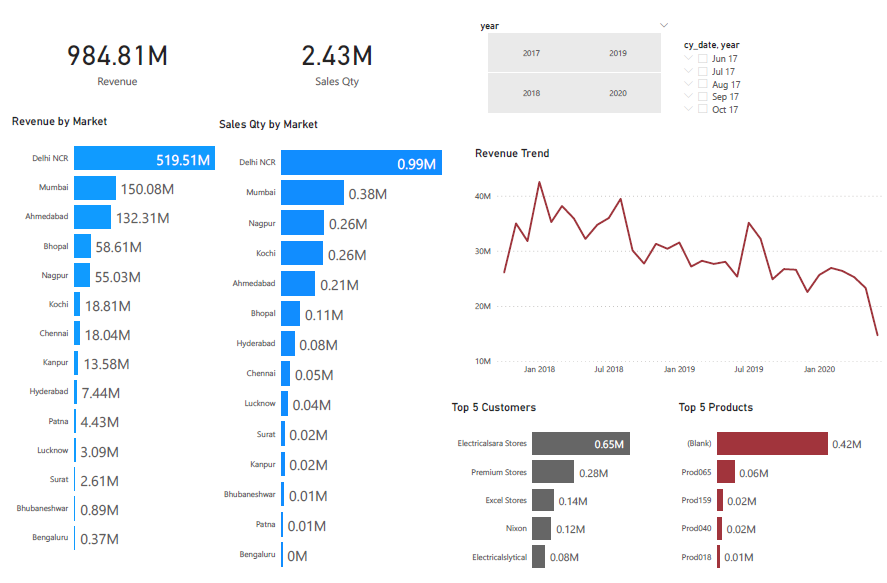

What the dashboard file says about the page in this screenshot:
{"tool":"powerbi","page":{"name":"Page 1","canvas":[1350,850],"ordinal":0},"visuals":[{"type":"card","fields":{"Values":["Basemeasures.Revenue"]},"box":[0,0,331.3,129.3],"z":0},{"type":"card","fields":{"Values":["Basemeasures.Sales Qty"]},"box":[331.3,0,329.5,129.3],"z":1000},{"type":"barChart","title":"Revenue by Market","fields":{"Y":["Basemeasures.Revenue"],"Category":["sales markets.markets_name"]},"box":[1.8,145.3,349,676.8],"z":2000},{"type":"barChart","title":"Sales Qty by Market","fields":{"Y":["Basemeasures.Sales Qty"],"Category":["sales markets.markets_name"]},"box":[312.7,151.2,347.5,698.5],"z":3000},{"type":"slicer","fields":{"Values":["sales date.year"]},"box":[698,0,308.3,150.6],"z":4000},{"type":"slicer","fields":{"Values":["sales date.cy_date","sales date.year"]},"box":[1004.5,30.1,345.5,120.5],"z":5000},{"type":"barChart","title":"Top 5 Customers","fields":{"Y":["Basemeasures.Sales Qty"],"Category":["sales customers.custmer_name"]},"box":[662,575.1,309.3,274.5],"z":6000},{"type":"barChart","title":"Top 5 Products","fields":{"Y":["Basemeasures.Sales Qty"],"Category":["sales products.product_code"]},"box":[1004.2,575.1,304.1,274.5],"z":7000},{"type":"lineChart","title":"Revenue Trend","fields":{"Y":["Basemeasures.Revenue"],"Category":["sales date.cy_date"]},"box":[698.5,194.6,639.4,352.7],"z":8000}]}

Visuals, with their boxes on the page's 1350x850 design canvas (x1, y1, x2, y2). These are canvas units, not pixel positions in the 887x583 screenshot, which may show the page scaled, cropped or inside an application window:
card - Basemeasures.Revenue: 0/0/331/129
card - Basemeasures.Sales Qty: 331/0/661/129
"Revenue by Market" barChart: 2/145/351/822
"Sales Qty by Market" barChart: 313/151/660/850
slicer - sales date.year: 698/0/1006/151
slicer - sales date.cy_date x sales date.year: 1004/30/1350/151
"Top 5 Customers" barChart: 662/575/971/850
"Top 5 Products" barChart: 1004/575/1308/850
"Revenue Trend" lineChart: 698/195/1338/547
